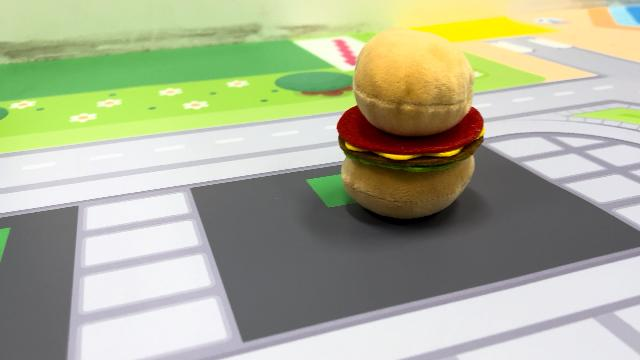burger: (333, 24, 489, 222)
